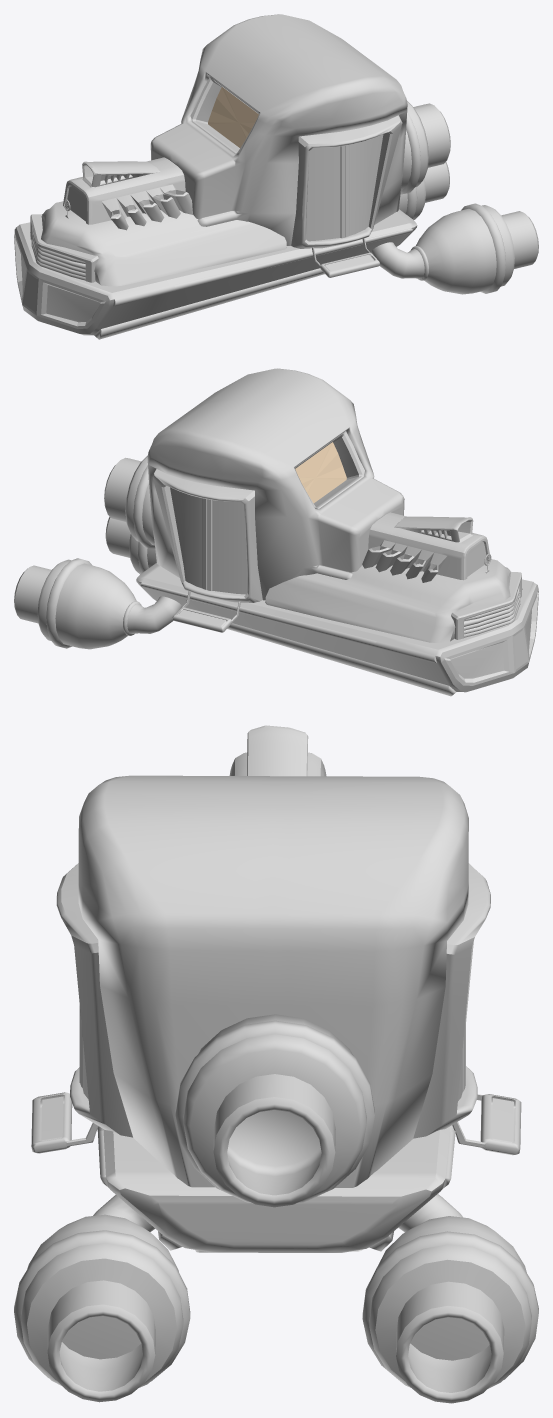
Rendered from SpaceShip2_flying.fbx.
The picture shows the model from 3 angles, top to bottom: view 1: azimuth 30°, elevation 25°; view 2: azimuth 150°, elevation 25°; view 3: azimuth 270°, elevation 25°; orthographic projection. The views are drawn at different scales.
Visible parts, largest first — view 1: SpaceCar_LP; view 2: SpaceCar_LP; view 3: SpaceCar_LP.
Part boxes in pixels (bbox=[...]): SpaceCar_LP: bbox=[14, 14, 538, 339]; SpaceCar_LP: bbox=[14, 368, 538, 696]; SpaceCar_LP: bbox=[14, 725, 538, 1403].
Bounding box in the file's own units: 16.31 × 8.3 × 8.5.
